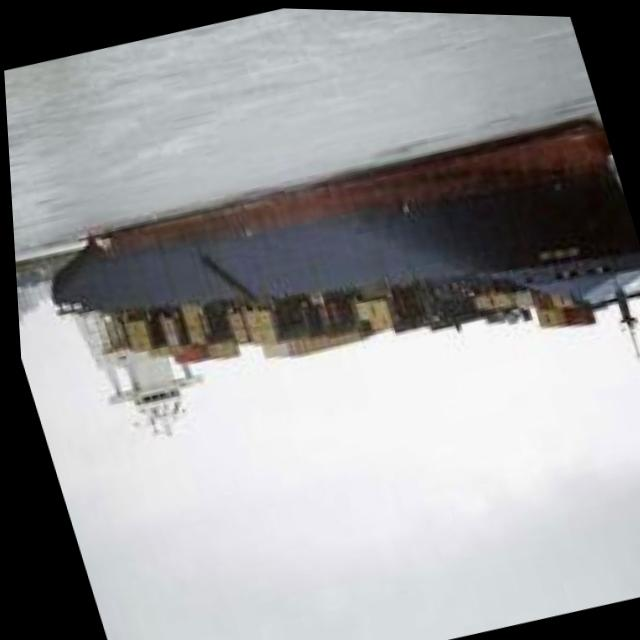ship2: (44, 115, 640, 436)
